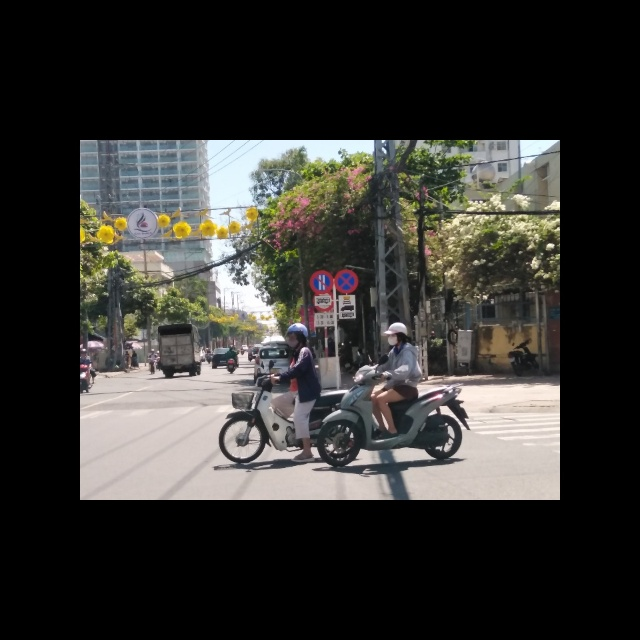Cấm dừng xe và đỗ xe: (334, 269, 359, 294)
Cấm đỗ xe ngày chẵn: (310, 270, 334, 293)
